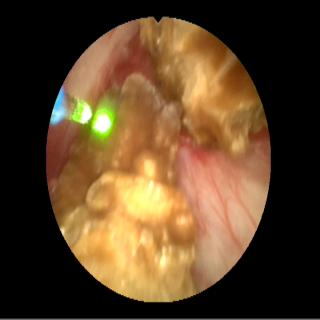laser: (93, 110, 113, 137), (73, 102, 91, 123)
stone: (53, 74, 196, 297), (142, 19, 265, 155)
tissue: (182, 137, 267, 286)
